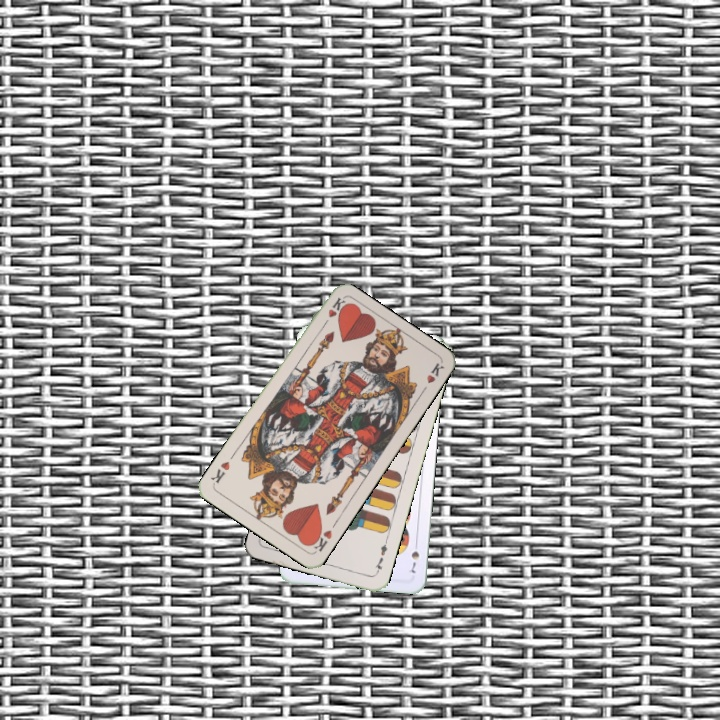E7: (371, 536, 390, 576)
HK: (306, 519, 339, 554), (317, 294, 347, 331)
S7: (407, 537, 422, 576)
